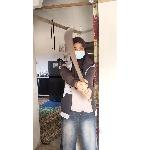Golok: (61, 19, 91, 90)
